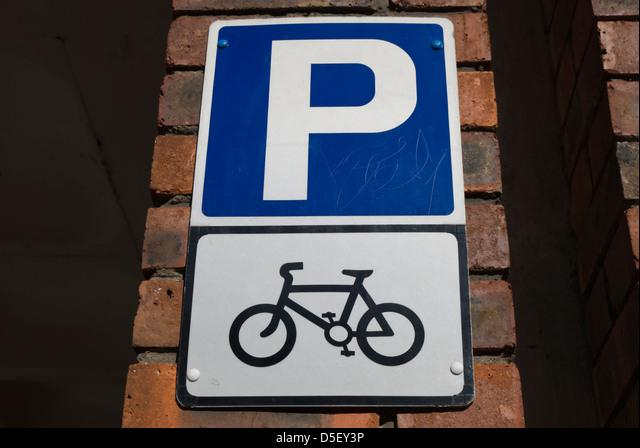Parking Lot Cycle: (216, 22, 440, 381)
